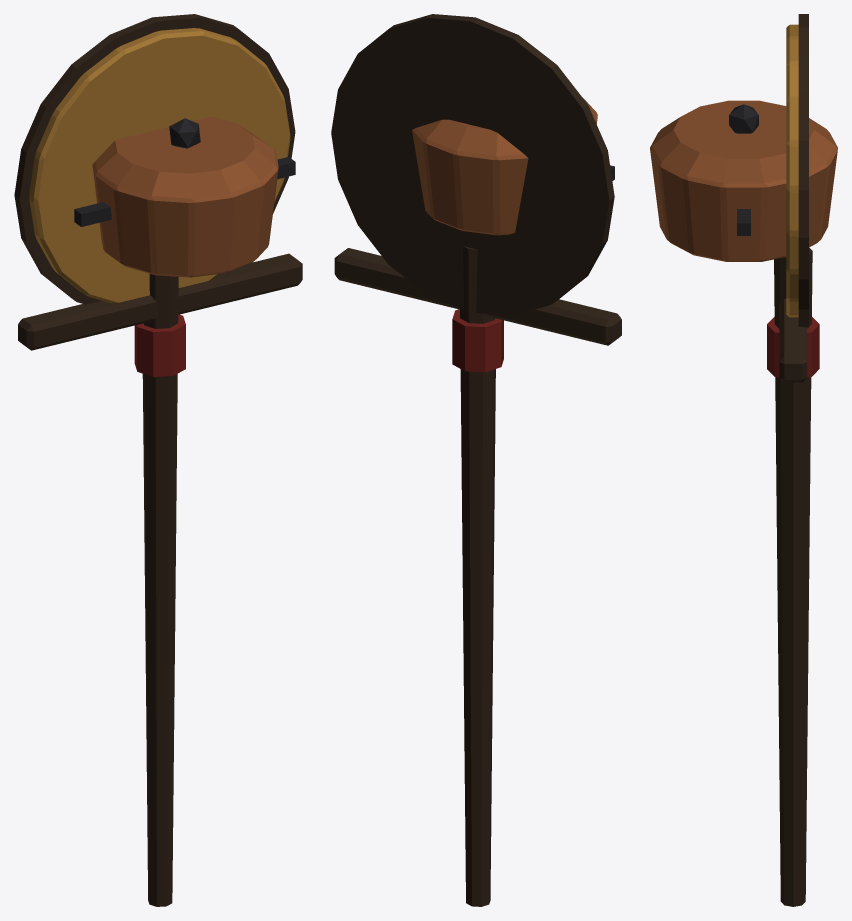
The model's file is sign_spice.glb.
3 renders of one model, left to right at view 1: azimuth 30°, elevation 25°; view 2: azimuth 150°, elevation 25°; view 3: azimuth 270°, elevation 25°, orthographic.
Parts seen in each view (by area): view 1: sign_spice; view 2: sign_spice; view 3: sign_spice.
Boxes of the visible parts, x1,y1,x2,y2 form: sign_spice: [14, 14, 302, 906]; sign_spice: [331, 14, 621, 906]; sign_spice: [650, 14, 837, 906].
Size of the model in its own units: 1.39 by 4.25 by 0.8265.
